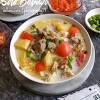soto: (9, 16, 99, 92)
